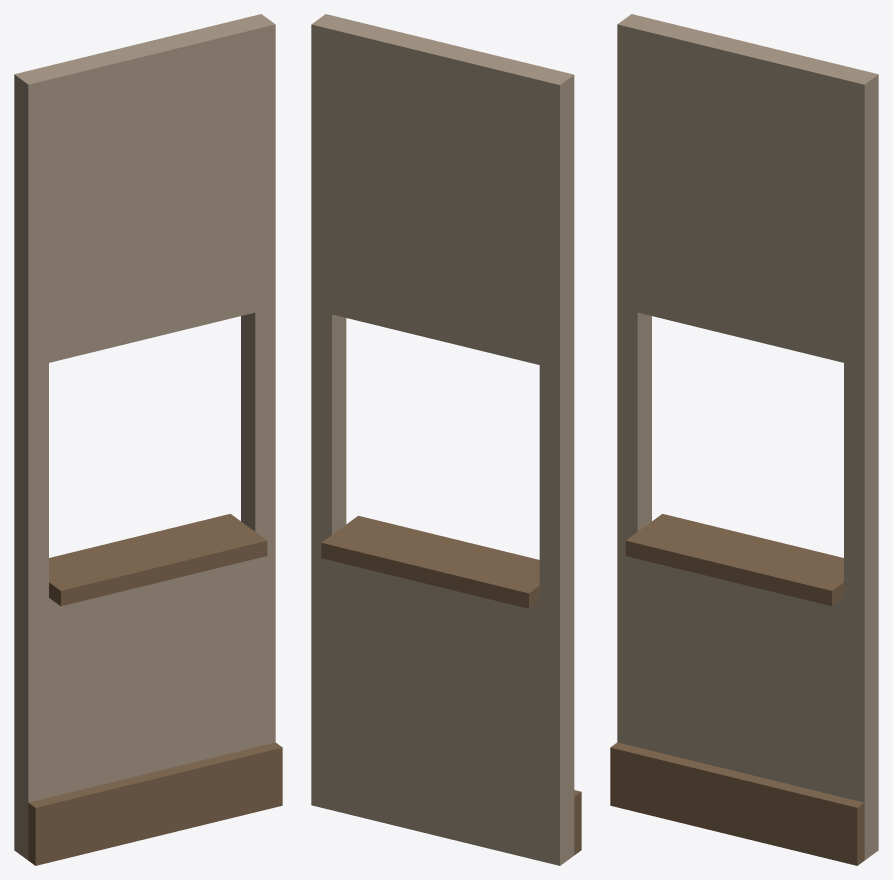
File: Mesh_WallBaseboard_B2.fbx
3 renders of one model, left to right at view 1: azimuth 30°, elevation 25°; view 2: azimuth 150°, elevation 25°; view 3: azimuth 330°, elevation 25°, orthographic.
Parts seen in each view (by area): view 1: Mesh_WallBaseboard_B2; view 2: Mesh_WallBaseboard_B2; view 3: Mesh_WallBaseboard_B2.
Boxes of the visible parts, <box> form: Mesh_WallBaseboard_B2: <box>14,14,282,865</box>; Mesh_WallBaseboard_B2: <box>311,14,581,865</box>; Mesh_WallBaseboard_B2: <box>610,14,878,865</box>.
Bounding box in the file's own units: 1 × 3 × 0.2574.
